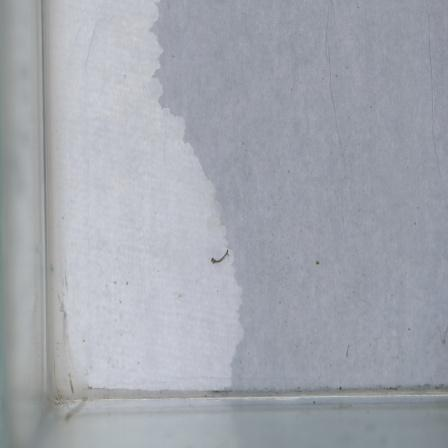Jentik-Nyamuk: (207, 243, 235, 271)
